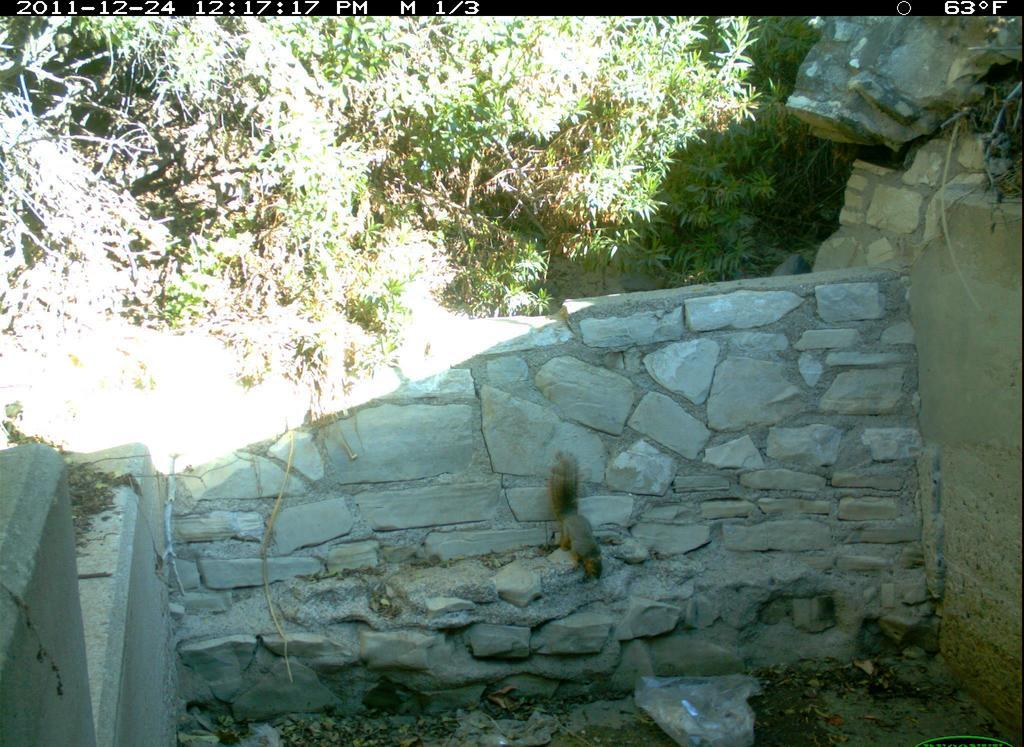squirrel: (539, 441, 616, 589)
